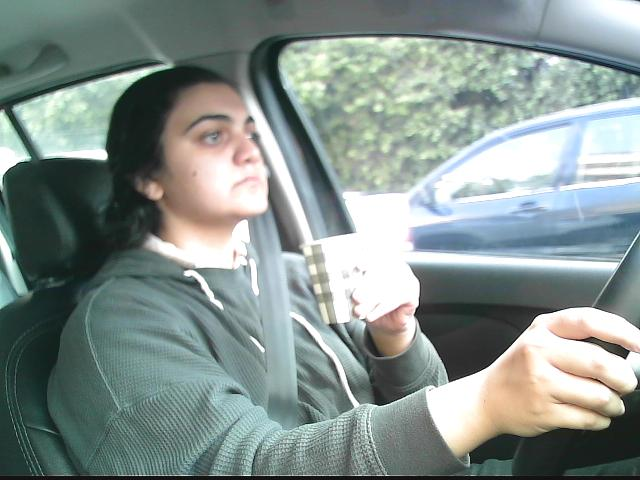Drinking: (296, 230, 386, 331)
